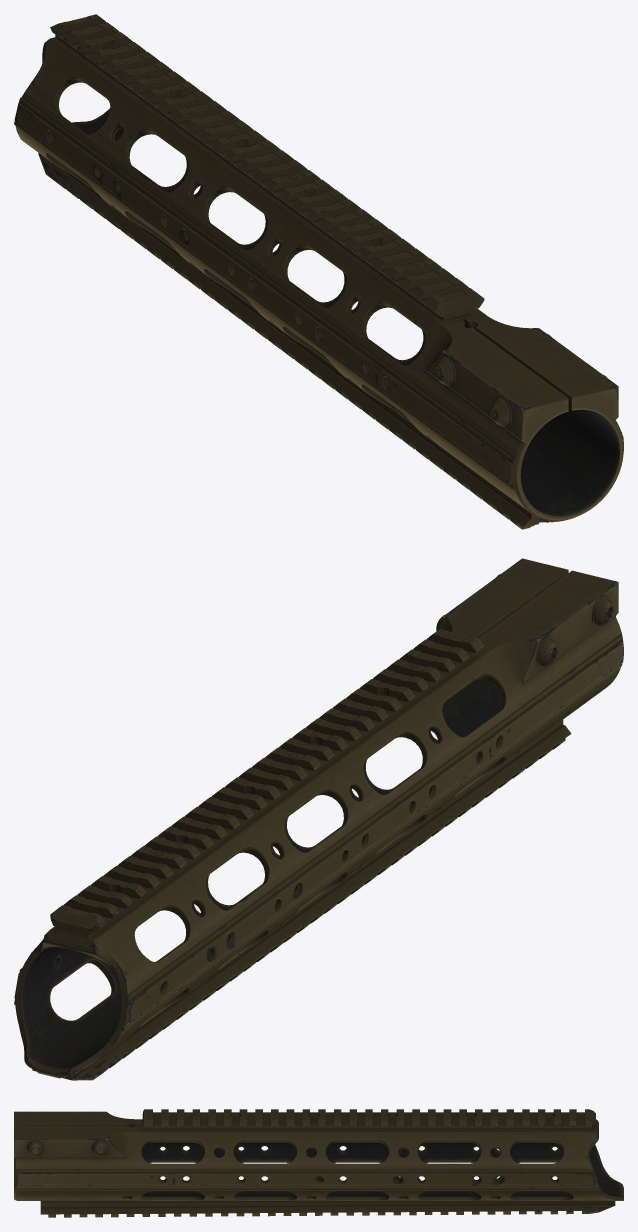
3 renders of one model, top to bottom at view 1: azimuth 30°, elevation 25°; view 2: azimuth 150°, elevation 25°; view 3: azimuth 270°, elevation 25°, orthographic. The views are drawn at different scales.
Visible parts, largest first — view 1: TW_673cb5d1280680de5e02ff3b_PZ_Import; view 2: TW_673cb5d1280680de5e02ff3b_PZ_Import; view 3: TW_673cb5d1280680de5e02ff3b_PZ_Import.
Part boxes in pixels (x1,y1,x2,y2): TW_673cb5d1280680de5e02ff3b_PZ_Import: (14, 14, 623, 529); TW_673cb5d1280680de5e02ff3b_PZ_Import: (14, 558, 623, 1080); TW_673cb5d1280680de5e02ff3b_PZ_Import: (14, 1109, 623, 1217).
Bounding box in the file's own units: 0.0285 × 0.2248 × 0.0397.
1 material, 1 textured.
